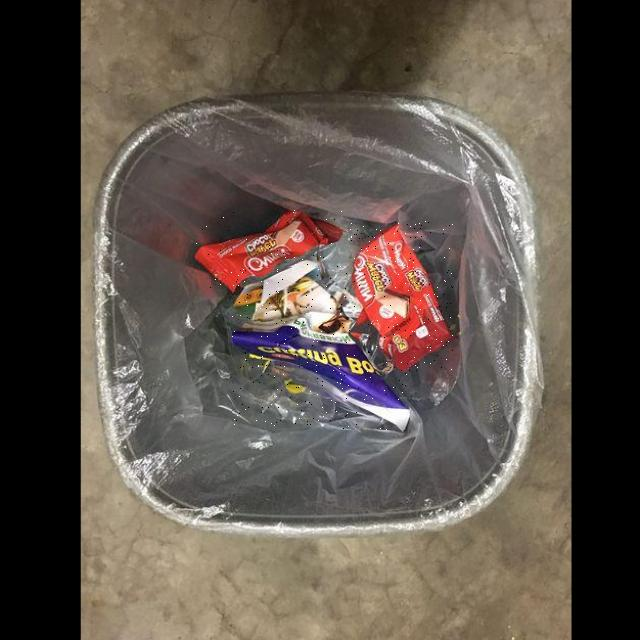paper: (232, 267, 409, 429)
wrapper: (348, 221, 453, 373), (195, 210, 345, 291)
